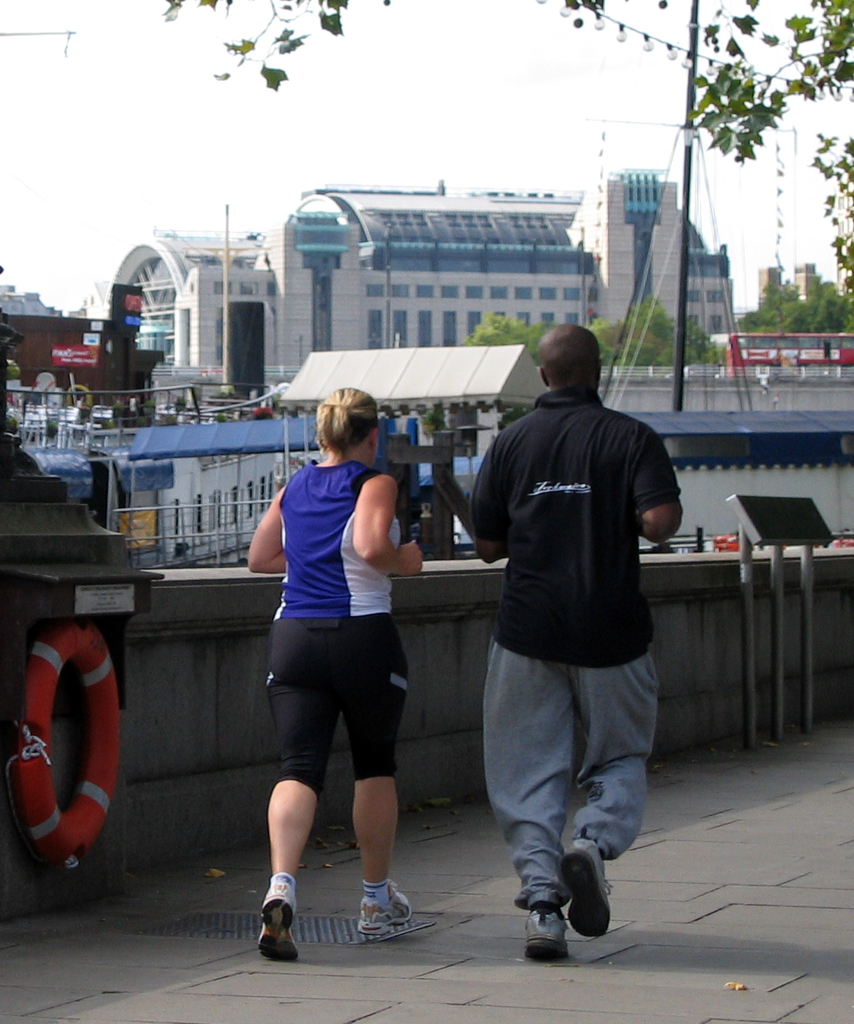Footwear: (550, 838, 613, 940), (249, 871, 312, 962), (358, 875, 411, 937), (519, 904, 572, 963)
